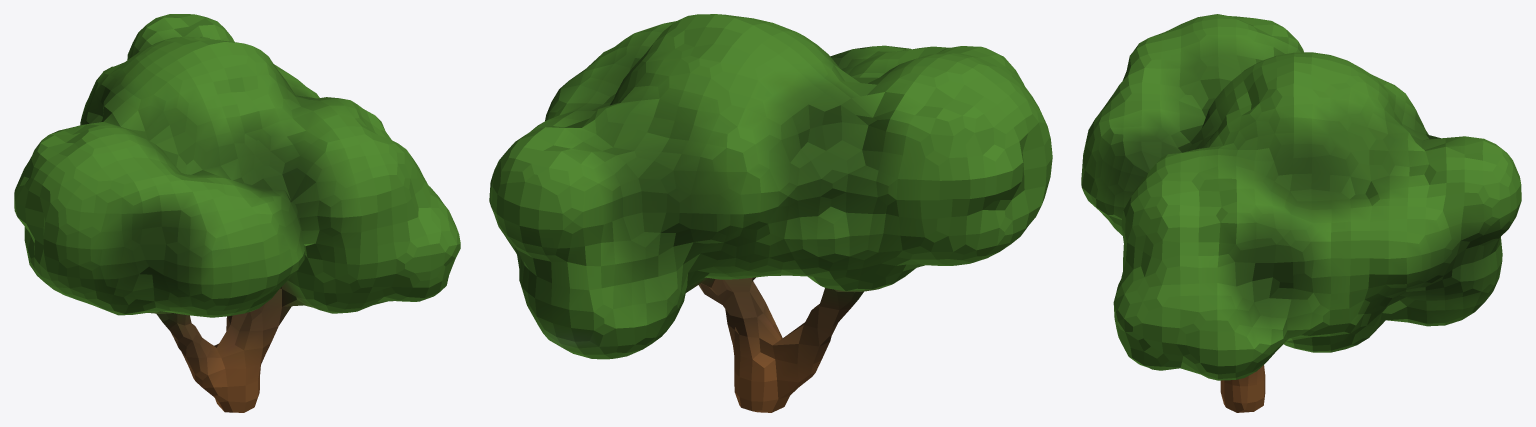
The model's file is FBX_Bush.fbx.
3 renders of one model, left to right at view 1: azimuth 30°, elevation 25°; view 2: azimuth 150°, elevation 25°; view 3: azimuth 270°, elevation 25°, orthographic. The views are drawn at different scales.
Parts seen in each view (by area): view 1: FBX_bush; view 2: FBX_bush; view 3: FBX_bush.
Part boxes in pixels (x1=…): FBX_bush: x1=14, y1=14, x2=460, y2=412; FBX_bush: x1=489, y1=14, x2=1052, y2=412; FBX_bush: x1=1081, y1=14, x2=1521, y2=412.
Bounding box in the file's own units: 181 × 145 × 169.
